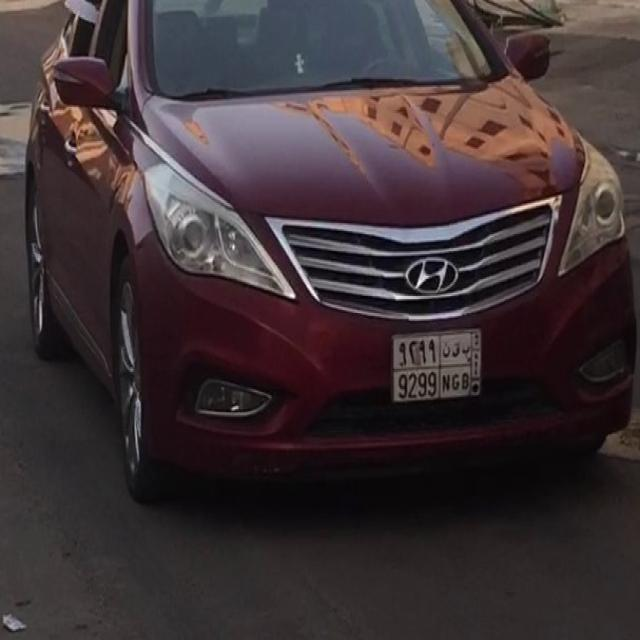Car-plate: (386, 324, 498, 410)
